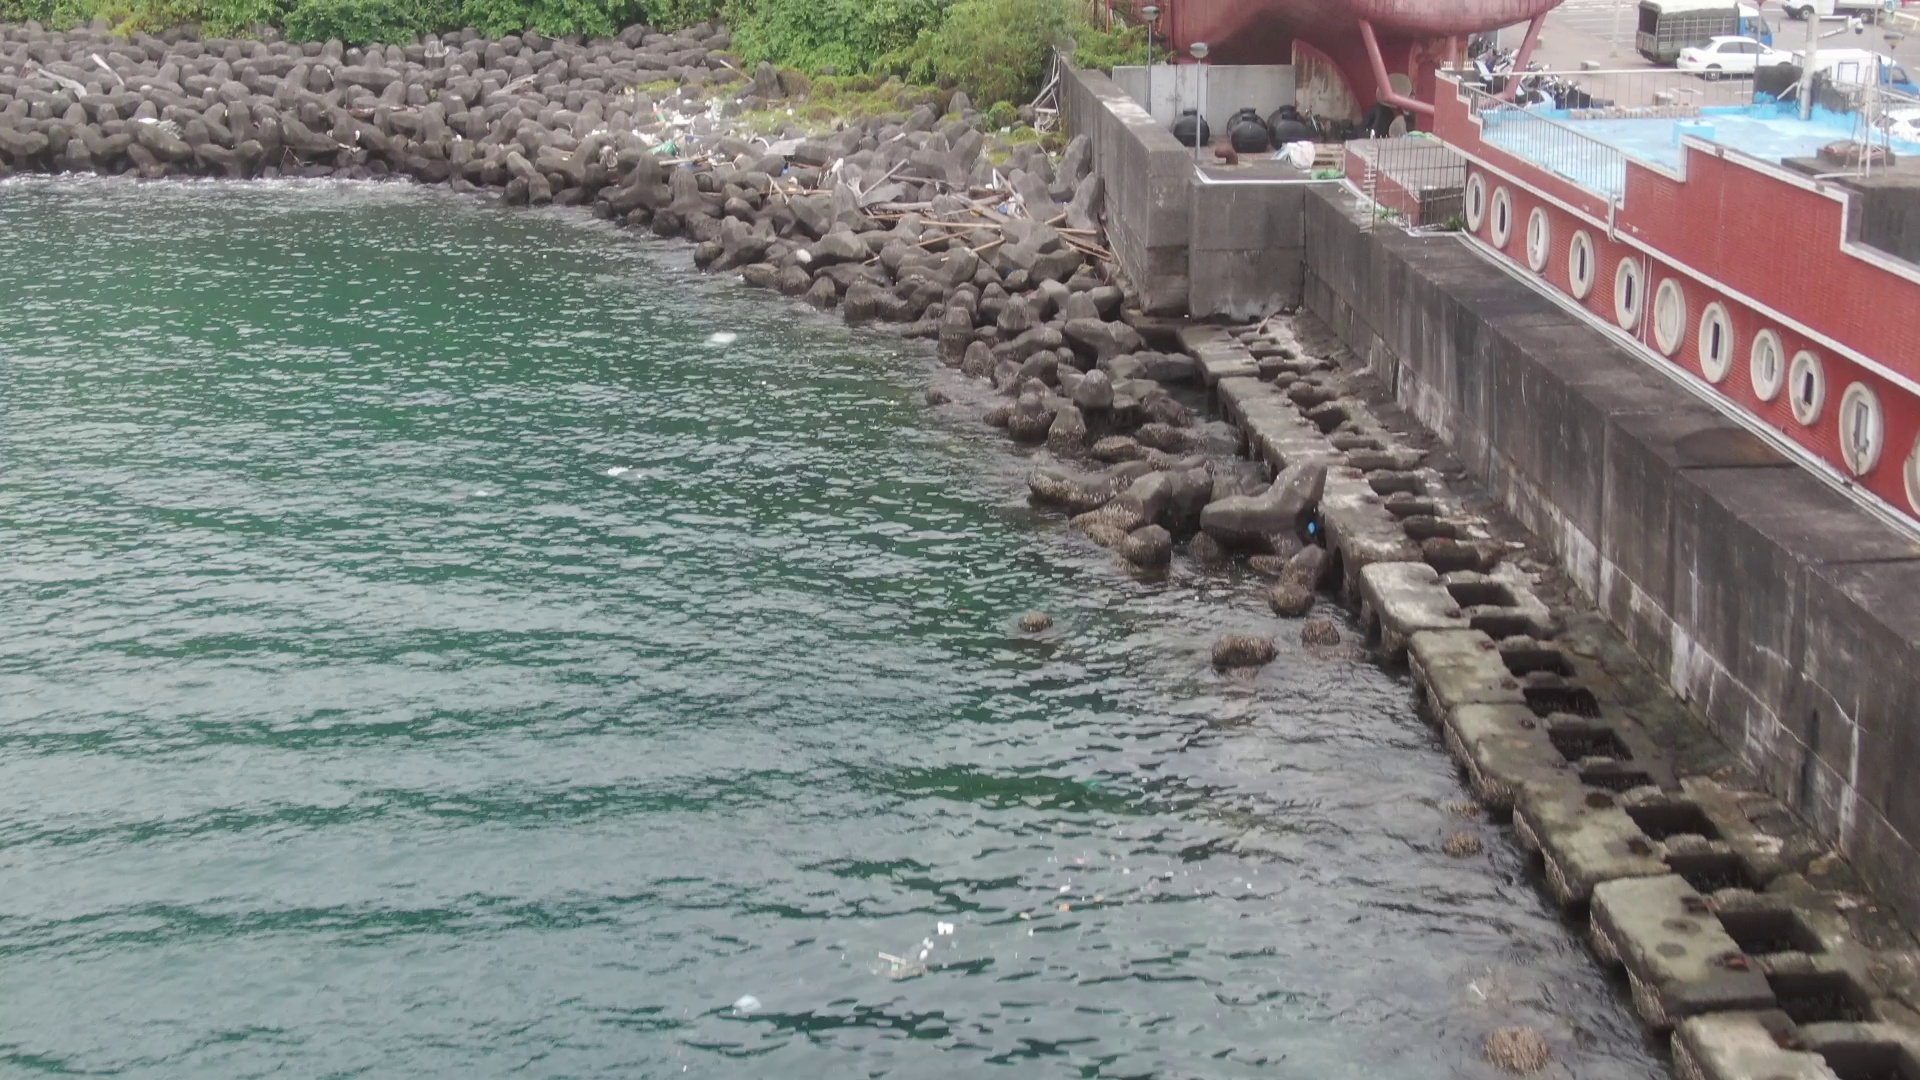garbage: (624, 76, 818, 175), (943, 160, 1038, 231), (705, 319, 742, 353)
